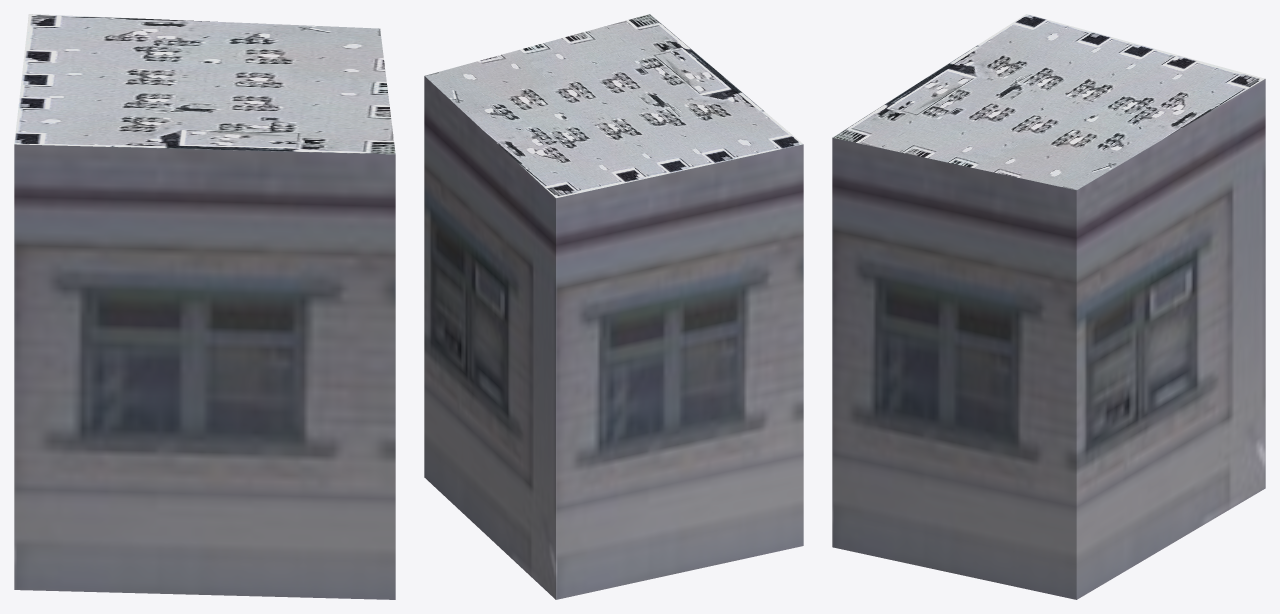
Rendered from ResTex__1935.fbx.
3 views of the same model, side by side, from view 1: azimuth 30°, elevation 25°; view 2: azimuth 150°, elevation 25°; view 3: azimuth 270°, elevation 25° (orthographic). The views are drawn at different scales.
Parts seen in each view (by area): view 1: CityEngineMaterial_1_m, CityEngineMaterial_m; view 2: CityEngineMaterial_1_m, CityEngineMaterial_m; view 3: CityEngineMaterial_1_m, CityEngineMaterial_m.
Part boxes in pixels (<box>): CityEngineMaterial_1_m: <box>14,144,395,599</box>; CityEngineMaterial_m: <box>14,14,395,154</box>; CityEngineMaterial_1_m: <box>424,76,803,599</box>; CityEngineMaterial_m: <box>425,14,802,198</box>; CityEngineMaterial_1_m: <box>832,79,1265,599</box>; CityEngineMaterial_m: <box>833,14,1265,190</box>.
Size of the model in its own units: 2.77 by 3 by 2.88.
Materials: 2 (2 with a texture image).
